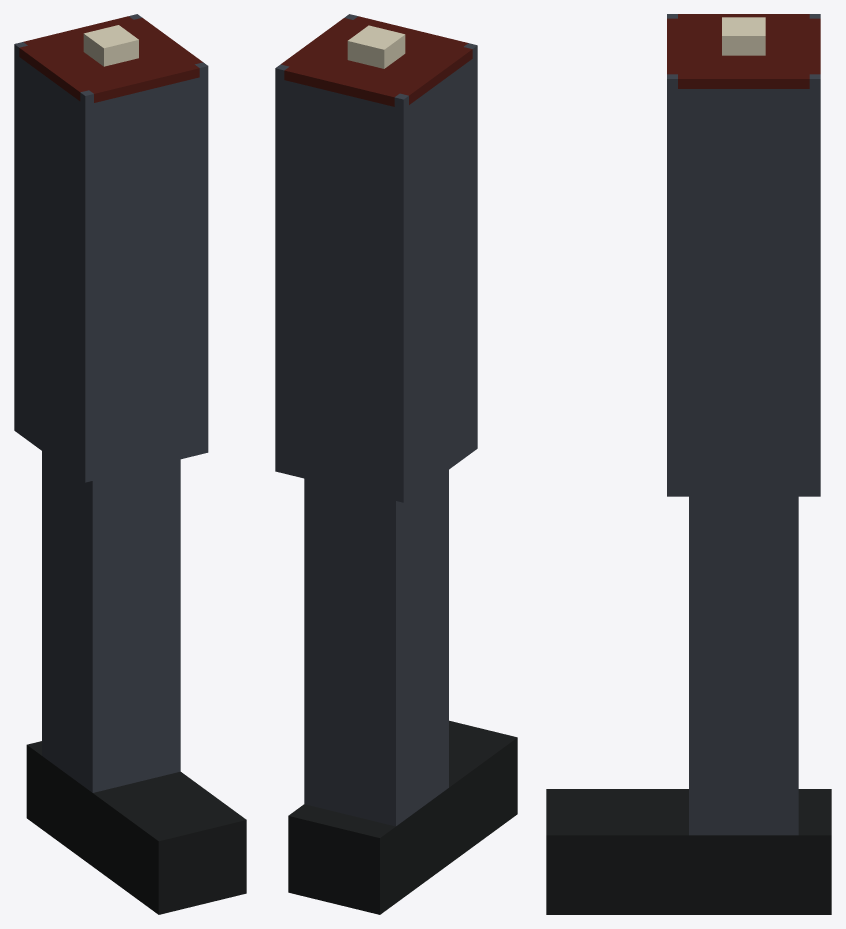
Rendered from shambler_left_leg.glb.
3 renders of one model, left to right at view 1: azimuth 30°, elevation 25°; view 2: azimuth 150°, elevation 25°; view 3: azimuth 270°, elevation 25°, orthographic. The views are drawn at different scales.
Visible parts, largest first — view 1: part:limb; view 2: part:limb; view 3: part:limb.
Part boxes in pixels (x1,y1,x2,y2): part:limb: [14, 14, 246, 914]; part:limb: [275, 14, 517, 914]; part:limb: [546, 14, 831, 914].
Size of the model in its own units: 0.14 by 0.87 by 0.26.
